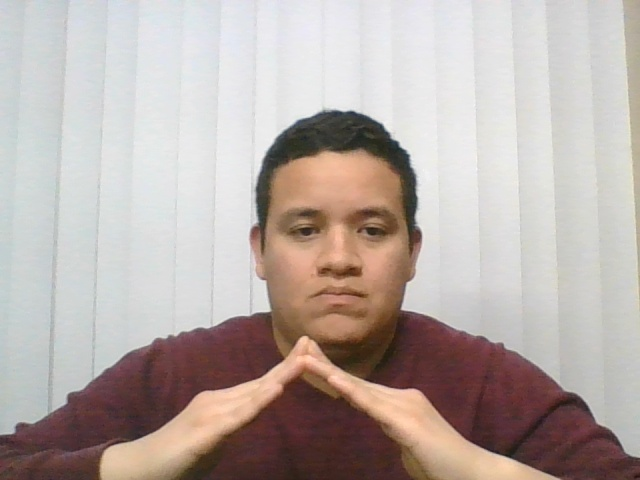House: (67, 318, 545, 476)
